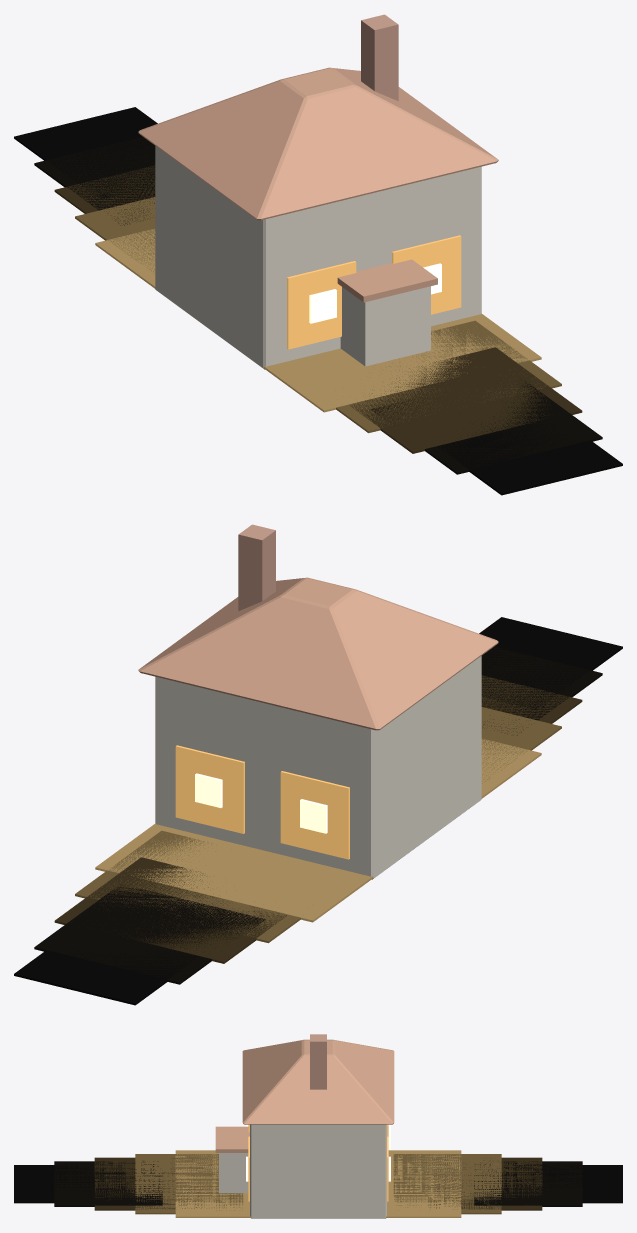
Rendered from town_villa.glb.
The picture shows the model from 3 angles, top to bottom: view 1: azimuth 30°, elevation 25°; view 2: azimuth 150°, elevation 25°; view 3: azimuth 270°, elevation 25°; orthographic projection. The views are drawn at different scales.
Parts seen in each view (by area): view 1: town_villa; view 2: town_villa; view 3: town_villa.
Boxes of the visible parts, left/top/right/bottom form: town_villa: left=14, top=14, right=622, bottom=495; town_villa: left=14, top=524, right=622, bottom=1005; town_villa: left=14, top=1034, right=622, bottom=1218.
Bounding box in the file's own units: 0.6915 × 0.7294 × 2.42.
